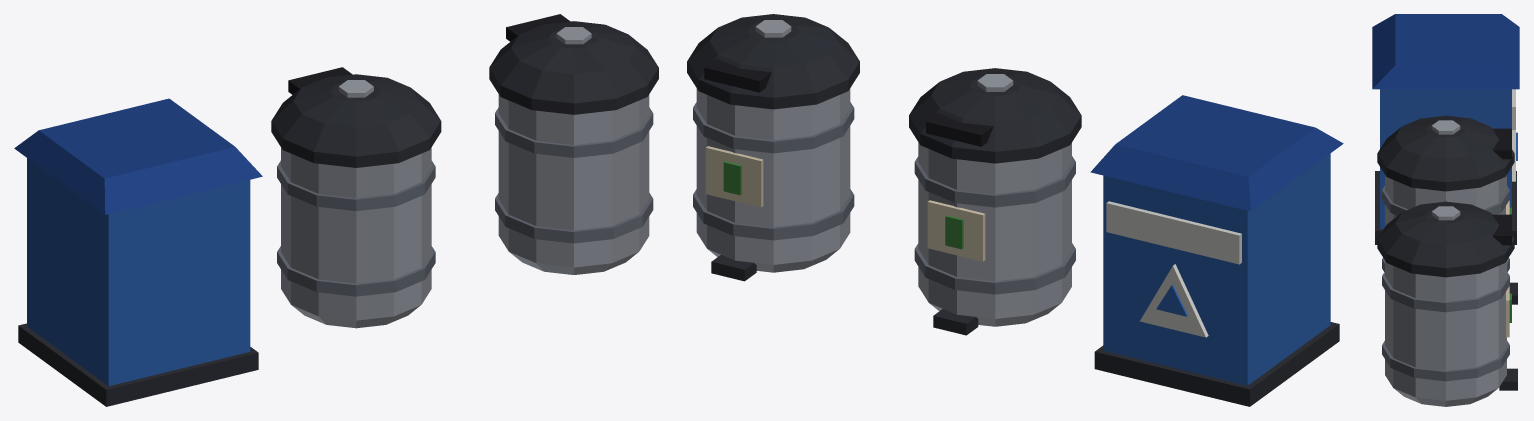
Rendered from Decor_FoodTruck_Bins.fbx.
3 renders of one model, left to right at view 1: azimuth 30°, elevation 25°; view 2: azimuth 150°, elevation 25°; view 3: azimuth 270°, elevation 25°, orthographic. The views are drawn at different scales.
Visible parts, largest first — view 1: Bins_Body; view 2: Bins_Body; view 3: Bins_Body.
Boxes of the visible parts, x1,y1,x2,y2 form: Bins_Body: [14, 14, 658, 406]; Bins_Body: [687, 14, 1343, 406]; Bins_Body: [1372, 14, 1519, 406].
Bounding box in the file's own units: 10.8 × 3.8 × 2.9.
